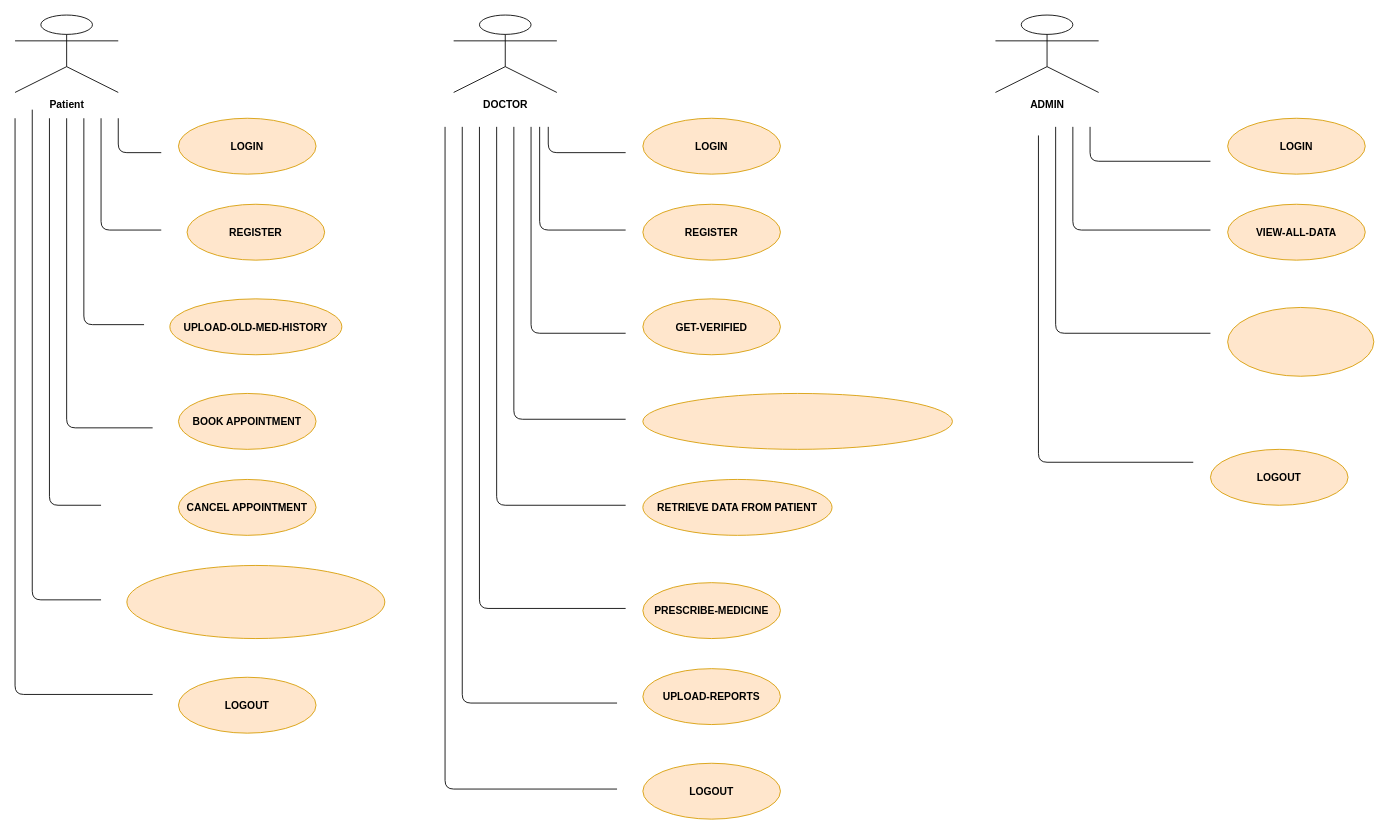
The diagram is 1389 pixels wide and 834 high, and some of its shapes have lost their labels. Each missing label, with the box of its shape:
POST SCHEDULE AND CHECK APPOINTMENTS: (642, 393, 952, 449)
VERIFY THE DOCTOR: (1227, 307, 1374, 376)
VIEW ENTIRE HISTORY OF MEDICAL RECORDS: (126, 565, 385, 639)
